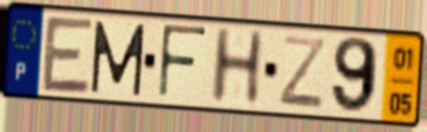9: (331, 34, 385, 118)
E: (40, 13, 97, 97)
F: (156, 22, 210, 104)
H: (207, 25, 267, 107)
M: (88, 18, 148, 99)
Z: (276, 32, 328, 112)
